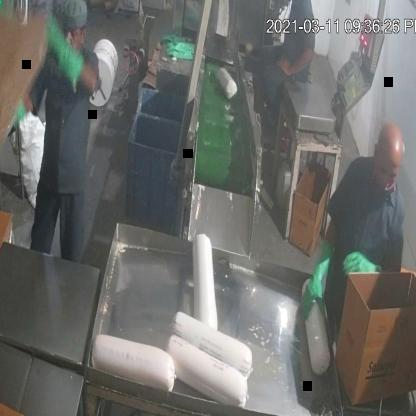glove: (298, 229, 332, 317), (341, 238, 380, 294)
no_glove: (274, 39, 312, 82)
